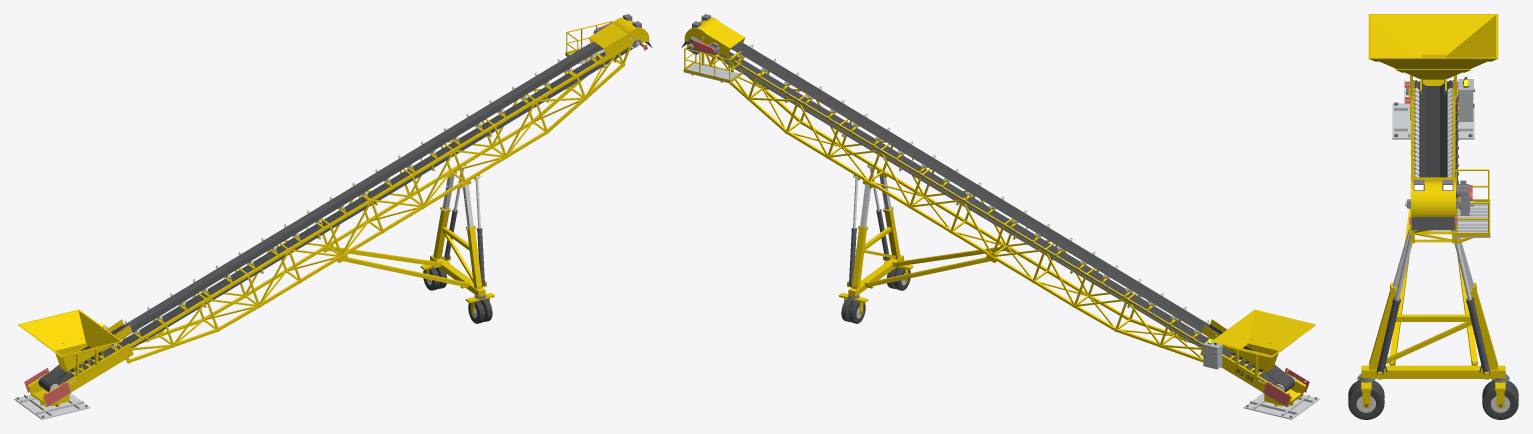
File: Radial_Stacking_Conveyor.glb
The picture shows the model from 3 angles, left to right: view 1: azimuth 30°, elevation 25°; view 2: azimuth 150°, elevation 25°; view 3: azimuth 270°, elevation 25°; orthographic projection. The views are drawn at different scales.
Visible parts, largest first — view 1: carry_belt, return_belt, bottom_chords, hopper, strut_outer_tubes, top_chords, truss_diagonals, truss_bracing, truss_verticals, hood, tail_frame, idler_frames (+5 smaller); view 2: carry_belt, return_belt, bottom_chords, hopper, strut_outer_tubes, truss_diagonals, truss_bracing, top_chords, truss_verticals, conduit, hood, ground_pan (+6 smaller); view 3: hopper, strut_outer_tubes, carry_belt, axle_beam, tyres, hood, lift_ram_barrels, carry_idlers, ground_pan, platform_deck, control_cabinet, dust_curtain (+16 smaller).
Part boxes in pixels (x1,y1,x2,y2): carry_belt: (42, 36, 629, 384); return_belt: (56, 48, 633, 385); bottom_chords: (126, 63, 625, 363); hopper: (17, 309, 122, 357); strut_outer_tubes: (329, 206, 481, 287); top_chords: (119, 39, 638, 353); truss_diagonals: (122, 52, 617, 349); truss_bracing: (116, 59, 620, 360); truss_verticals: (127, 52, 623, 360); hood: (588, 17, 649, 55); tail_frame: (28, 343, 133, 407); idler_frames: (69, 45, 598, 375); carry_belt: (704, 36, 1291, 384); return_belt: (717, 51, 1277, 385); bottom_chords: (709, 63, 1203, 362); hopper: (1211, 309, 1316, 357); strut_outer_tubes: (852, 206, 1004, 287); truss_diagonals: (719, 52, 1211, 349); truss_bracing: (713, 59, 1202, 358); top_chords: (703, 43, 1203, 347); truss_verticals: (710, 58, 1180, 344); conduit: (717, 52, 1216, 346); hood: (684, 17, 745, 55); ground_pan: (1243, 393, 1319, 419); hopper: (1368, 14, 1498, 79); strut_outer_tubes: (1369, 209, 1497, 368); carry_belt: (1419, 81, 1447, 177); axle_beam: (1361, 361, 1505, 379); tyres: (1348, 380, 1518, 419); hood: (1411, 177, 1455, 216); lift_ram_barrels: (1376, 297, 1490, 375); carry_idlers: (1413, 87, 1453, 177); ground_pan: (1392, 103, 1474, 139); platform_deck: (1454, 203, 1490, 237); control_cabinet: (1458, 79, 1473, 121); dust_curtain: (1411, 217, 1454, 230).
Bounding box in the file's own units: 30.73 × 11.55 × 4.95.
